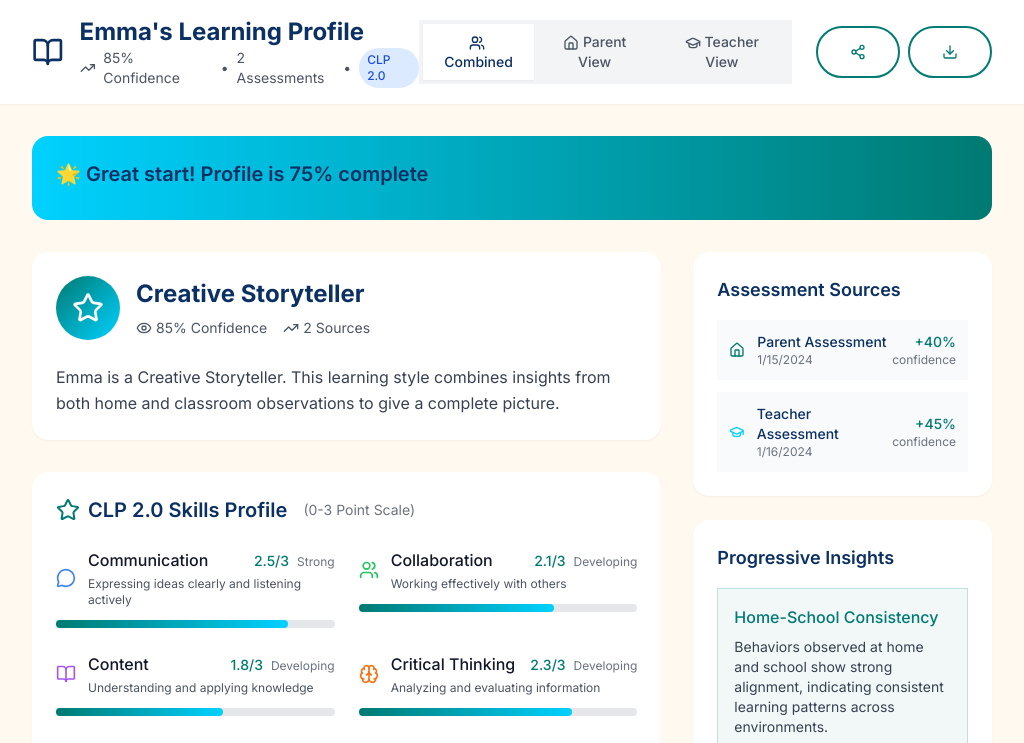
it: ContextualResultsPage › Share Functionality › should open share modal when share button is clicked
The width and height of the screenshot is (1024, 743).
Step 1. Click the 4th button → (858, 52), box [816,26,900,78]
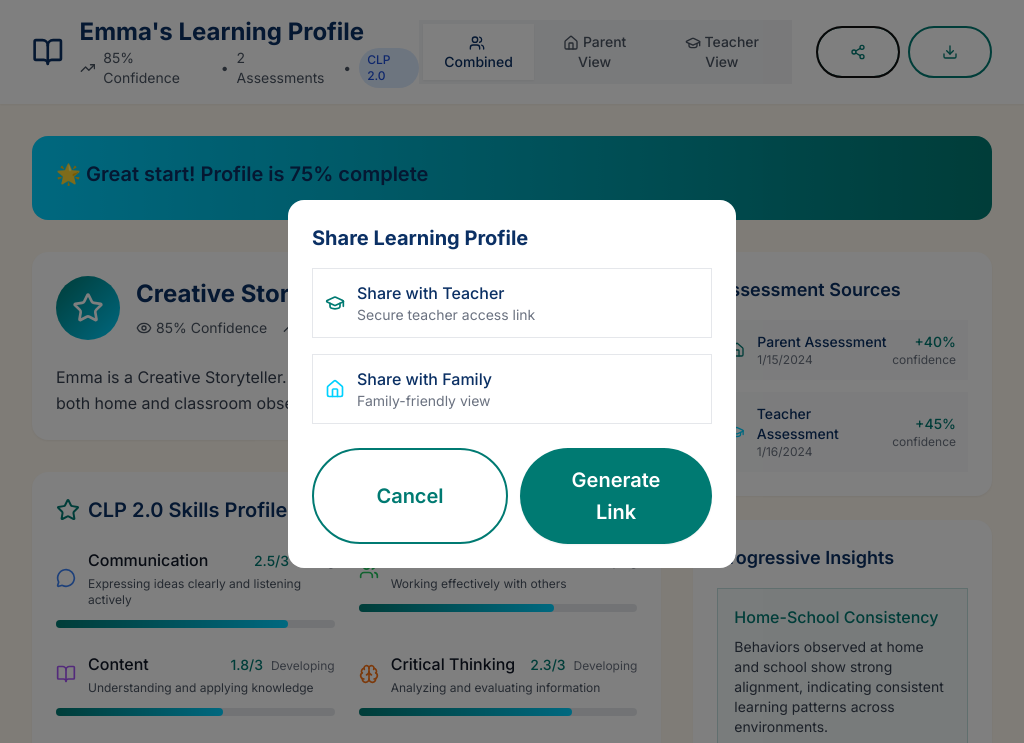
Now the heading "Share Learning Profile" is shown, box [312,226,528,250]
Now the text "Share with Teacher" is shown, box [357,283,504,303]
Now the text "Share with Family" is shown, box [357,367,492,391]
